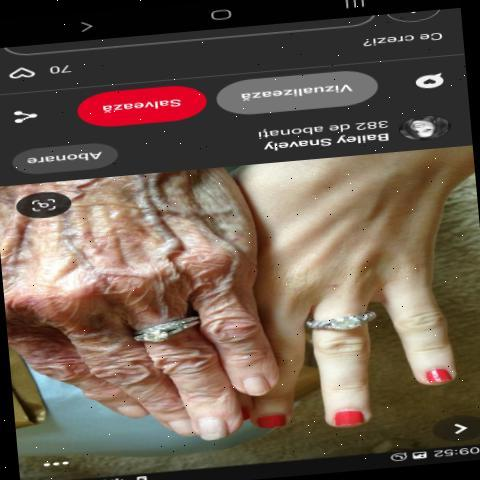Hands: (0, 182, 282, 453)
